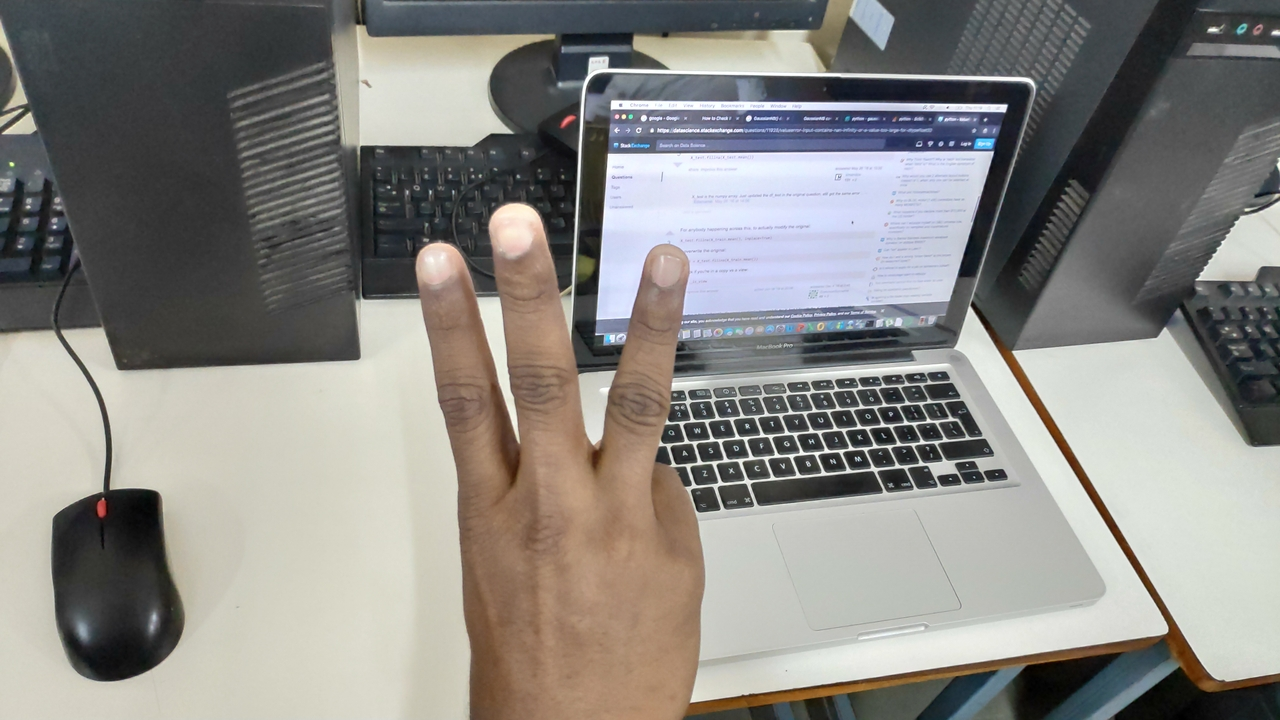fingertip: (480, 196, 550, 266), (406, 236, 472, 302), (638, 238, 698, 296)
